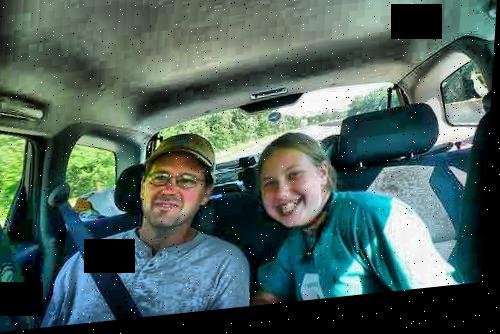seatbelt: (42, 179, 143, 316)
